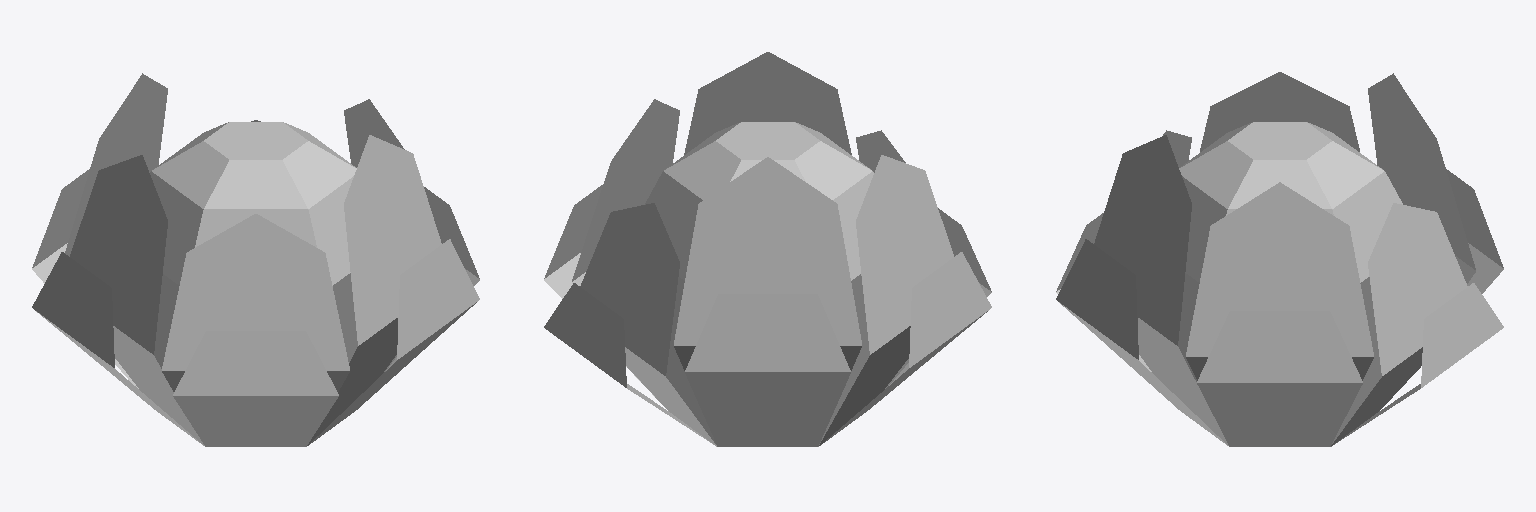
File: cauliflower.obj
3 renders of one model, left to right at view 1: azimuth 30°, elevation 25°; view 2: azimuth 150°, elevation 25°; view 3: azimuth 270°, elevation 25°, orthographic.
Visible parts, largest first — view 1: cauliflower; view 2: cauliflower; view 3: cauliflower.
Boxes of the visible parts, box(x1,y1,x2,y2) form: cauliflower: box(32, 73, 479, 446); cauliflower: box(544, 52, 991, 446); cauliflower: box(1056, 72, 1503, 446).
Size of the model in its own units: 0.3794 by 0.3074 by 0.4036.